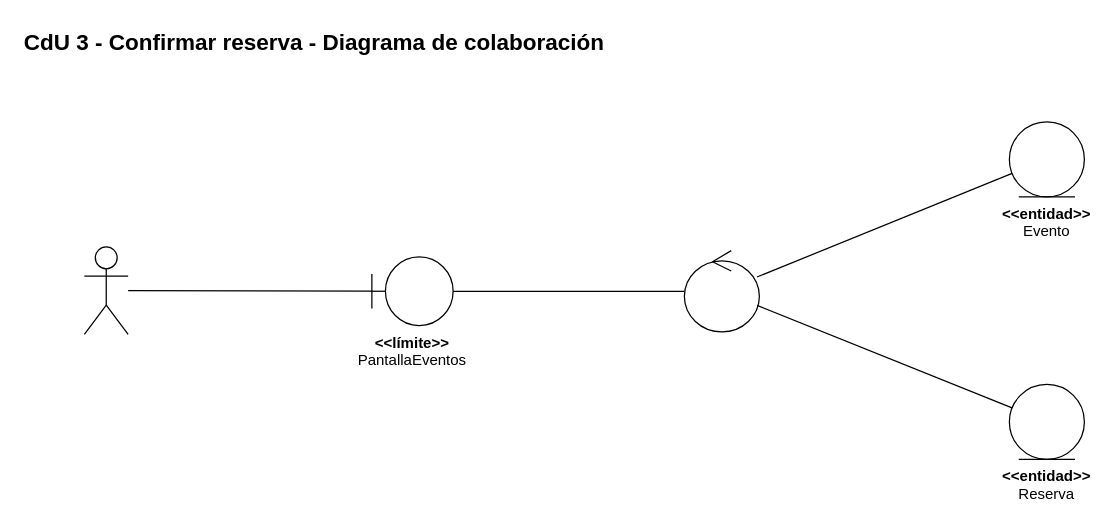
This 1113x525 diagram has some shape labels left out. Here are the shapes that lost their labels. From the top down, the box of each, then its label:
(83, 246, 128, 334): <<actor>> Estudiante
(683, 249, 759, 332): <<control>> GestiónReserva
